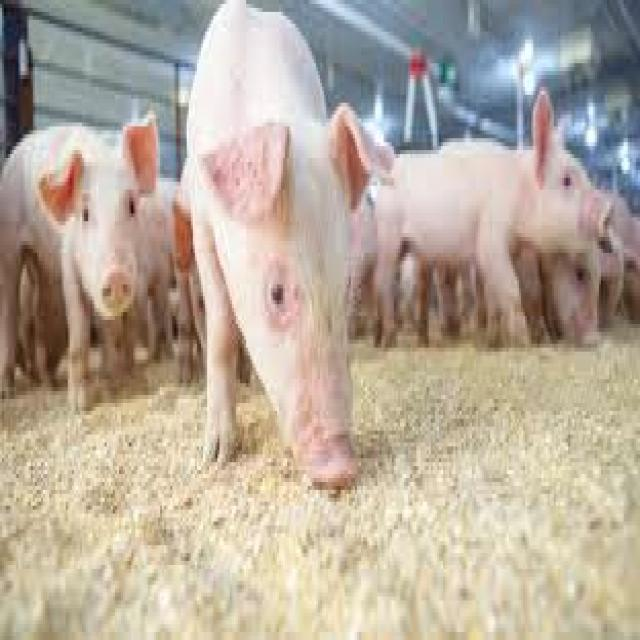pig: (183, 0, 379, 482), (377, 87, 609, 340), (2, 115, 158, 403)
